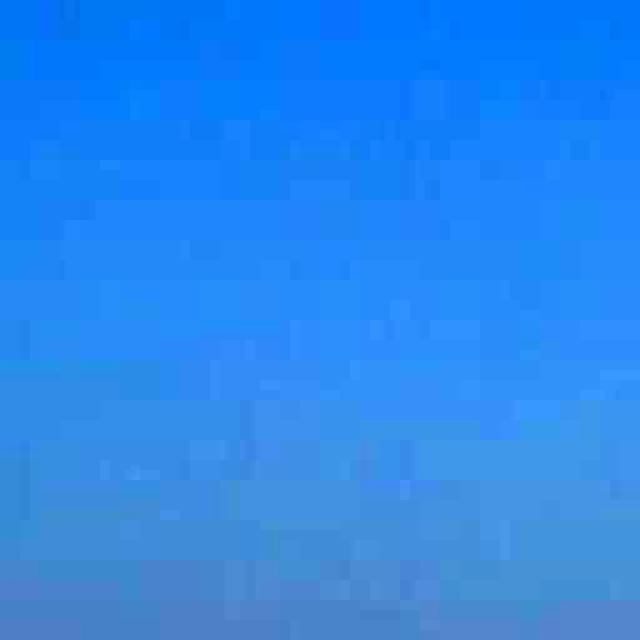bird: (619, 235, 640, 332)
